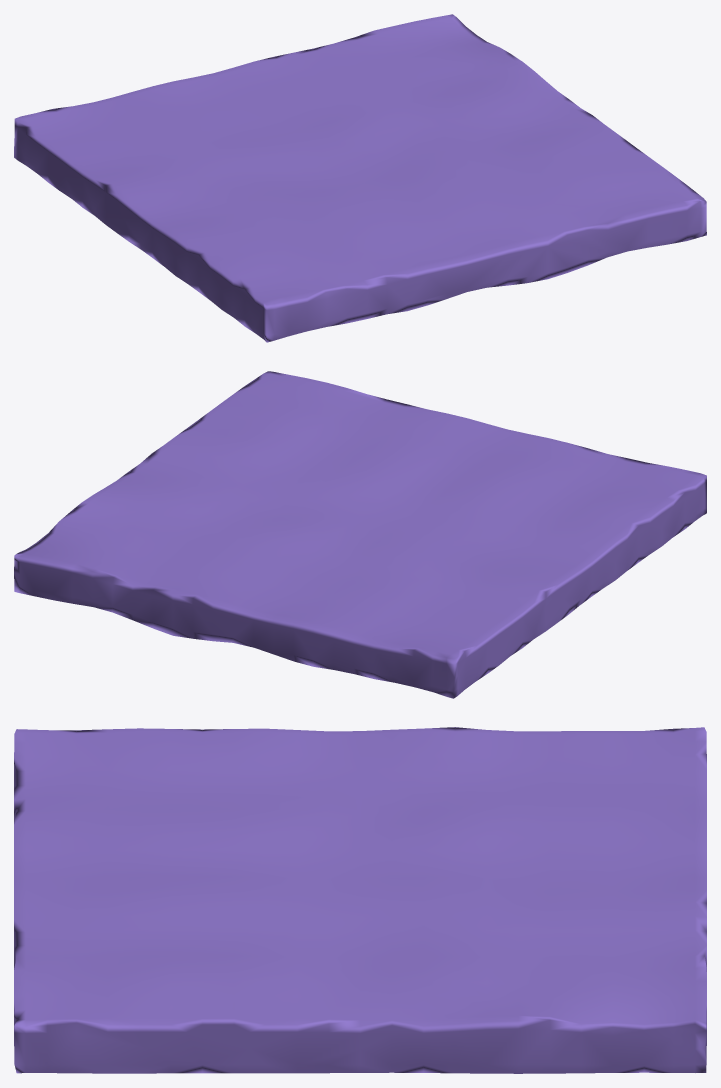
File: 01_Epidermis_collision.obj
The picture shows the model from 3 angles, top to bottom: view 1: azimuth 30°, elevation 25°; view 2: azimuth 150°, elevation 25°; view 3: azimuth 270°, elevation 25°; orthographic projection. The views are drawn at different scales.
Parts seen in each view (by area): view 1: 01_Epidermis_collision; view 2: 01_Epidermis_collision; view 3: 01_Epidermis_collision.
Part boxes in pixels (box(x1,y1,x2,y2)): 01_Epidermis_collision: box(14, 14, 706, 342); 01_Epidermis_collision: box(14, 371, 706, 698); 01_Epidermis_collision: box(14, 727, 706, 1073).
Size of the model in its own units: 1.12 by 0.1098 by 1.12.
